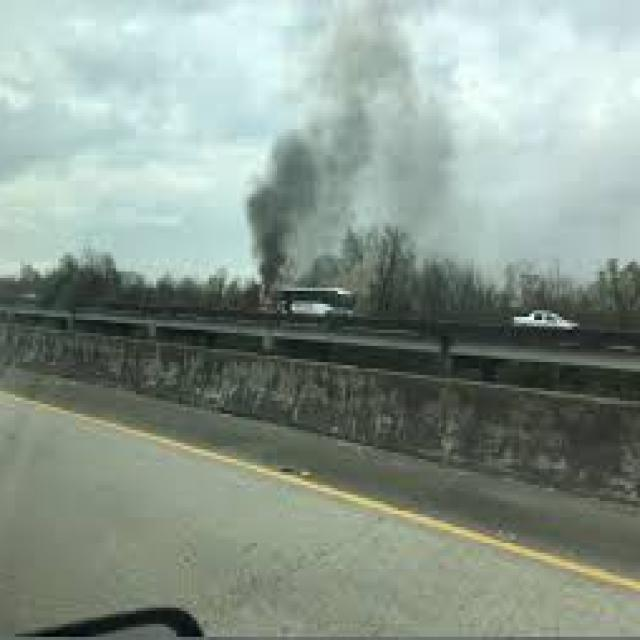Smoke: (227, 0, 475, 337)
